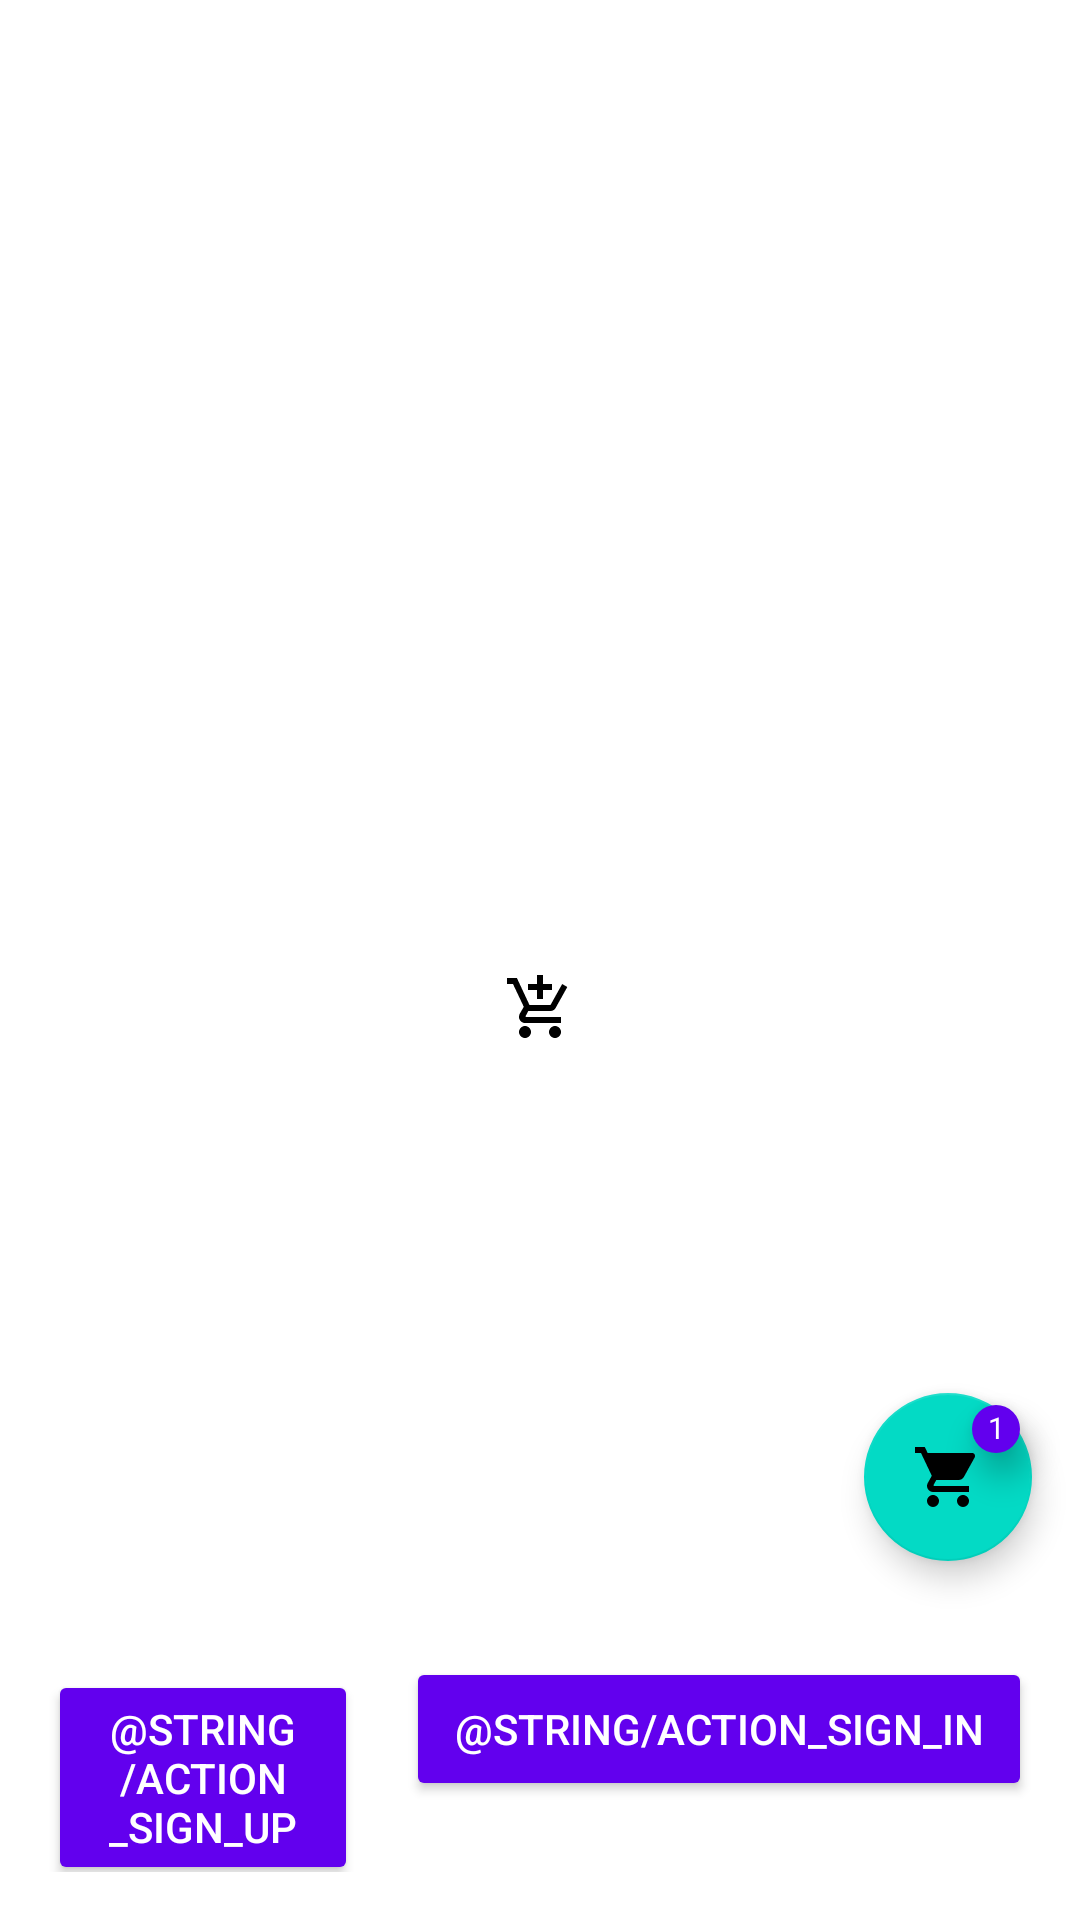

Locate icon controls on the screen. Image size 1080 x 1920, boxes as (x1, y1, x2, y2).
cart: (864, 1393, 1032, 1561)
cart add: (507, 975, 567, 1038)
